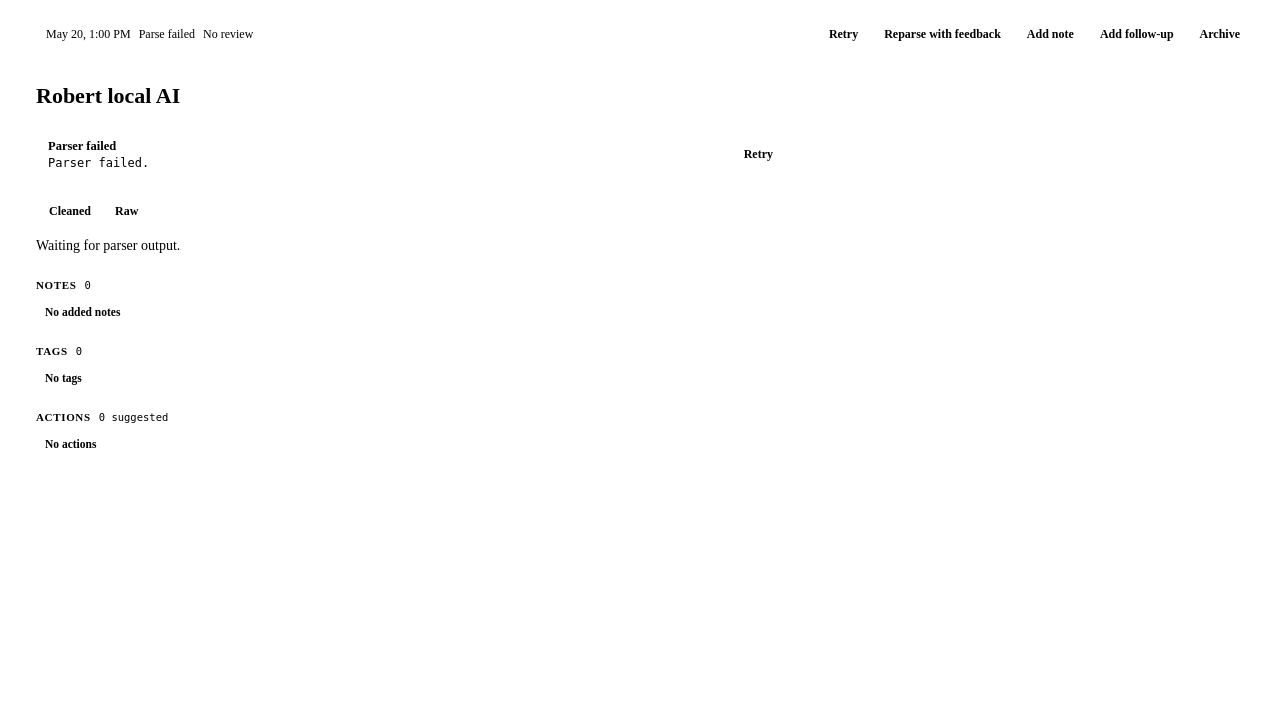
Test: NoteDetail › opens a feedback dialog from the reparse action
Click the button "Reparse with feedback" at [943, 34], box [874, 20, 1011, 48]
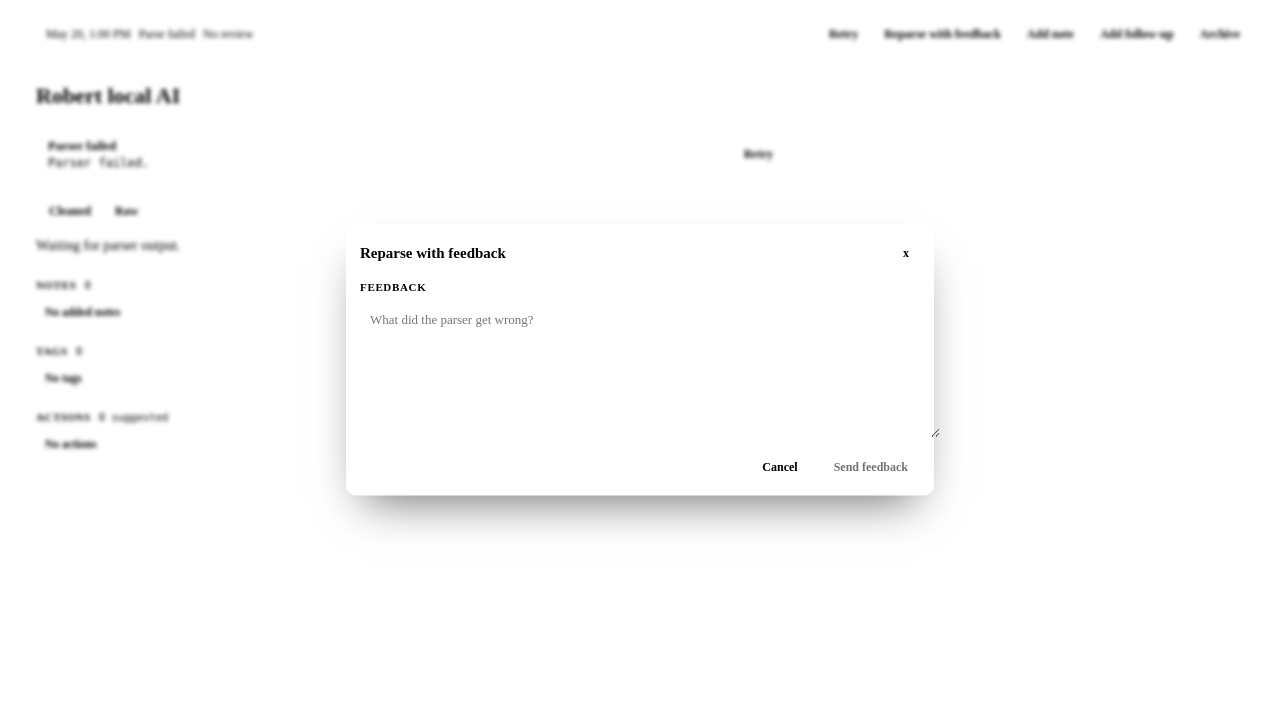
Expected: the text box labelled "Feedback" is shown, [360, 300, 940, 438]
Expected: the button "Send feedback" is disabled, [822, 452, 920, 482]
